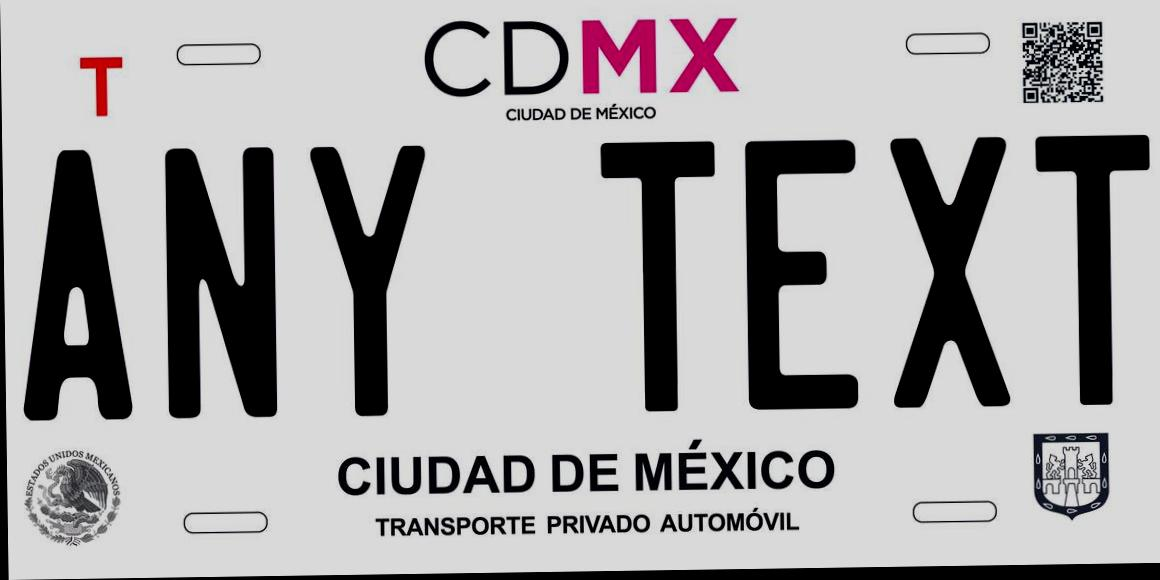License_Plate: (10, 4, 1159, 568)
